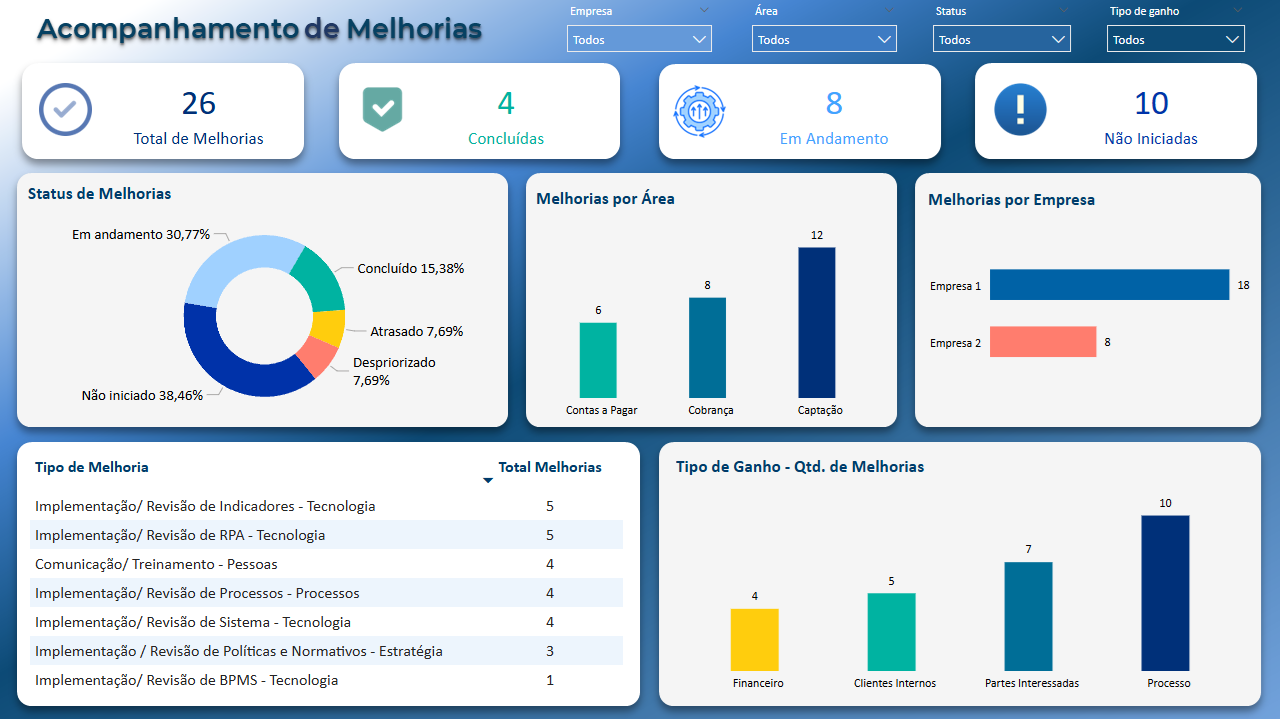

The page's visual inventory and layout, read from the dashboard file:
{"tool":"powerbi","page":{"name":"Página 1","canvas":[1280,720],"ordinal":0},"visuals":[{"type":"card","fields":{"Values":["Medidas.Total Melhorias"]},"box":[96.4,66.4,204.5,97.3],"z":0},{"type":"card","fields":{"Values":["Medidas.Melhorias Em Andamento"]},"box":[731.1,67.8,205.6,95.6],"z":1000},{"type":"donutChart","title":"Status de Melhorias","fields":{"Category":["Base.Status"],"Y":["Medidas.Total Melhorias"]},"box":[22.7,178.2,483.6,248.2],"z":2000},{"type":"slicer","fields":{"Values":["Base.Empresa"]},"box":[557.3,4.5,164.5,49.1],"z":3000},{"type":"slicer","fields":{"Values":["Base.Área"]},"box":[741.8,4.5,165.5,49.1],"z":4000},{"type":"slicer","fields":{"Values":["Base.Status"]},"box":[922.7,4.5,158.2,49.1],"z":5000},{"type":"slicer","fields":{"Values":["Base.Tipo de ganho"]},"box":[1097.3,4.5,158.2,49.1],"z":6000},{"type":"clusteredColumnChart","title":"Tipo de Ganho - Qtd. de Melhorias","fields":{"Category":["Base.Tipo de ganho"],"Y":["Medidas.Total Melhorias"]},"box":[670.9,455.9,584.9,244.5],"z":7000},{"type":"card","fields":{"Values":["Medidas.Melhorias Não Iniciadas"]},"box":[1047.8,66.7,206.7,96.7],"z":8000},{"type":"card","fields":{"Values":["Medidas.Melhorias Concluídas"]},"box":[396.4,66.4,220,97.3],"z":9000},{"type":"tableEx","fields":{"Values":["Base.Tipo de Melhoria","Medidas.Ranking do Produto"]},"box":[22.7,448.2,623.6,260],"z":10000},{"type":"clusteredBarChart","title":"Melhorias por Empresa","fields":{"Category":["Base.Empresa"],"Y":["Medidas.Total Melhorias"]},"box":[923.1,184.4,331.6,228.8],"z":11000},{"type":"clusteredColumnChart","title":"Melhorias por Área","fields":{"Category":["Base.Área"],"Y":["Medidas.Total Melhorias"]},"box":[531.1,182.7,360,239.4],"z":12000}]}

Visuals, with their boxes in screenshot pixels (x1, y1, x2, y2), scaled from the page's 1280x720 canvas onto the 1280x719 screenshot:
card - Medidas.Total Melhorias: Rect(96, 66, 301, 163)
card - Medidas.Melhorias Em Andamento: Rect(731, 68, 937, 163)
"Status de Melhorias" donutChart: Rect(23, 178, 506, 426)
slicer - Base.Empresa: Rect(557, 4, 722, 54)
slicer - Base.Área: Rect(742, 4, 907, 54)
slicer - Base.Status: Rect(923, 4, 1081, 54)
slicer - Base.Tipo de ganho: Rect(1097, 4, 1256, 54)
"Tipo de Ganho - Qtd. de Melhorias" clusteredColumnChart: Rect(671, 455, 1256, 699)
card - Medidas.Melhorias Não Iniciadas: Rect(1048, 67, 1254, 163)
card - Medidas.Melhorias Concluídas: Rect(396, 66, 616, 163)
tableEx - Base.Tipo de Melhoria x Medidas.Ranking do Produto: Rect(23, 448, 646, 707)
"Melhorias por Empresa" clusteredBarChart: Rect(923, 184, 1255, 413)
"Melhorias por Área" clusteredColumnChart: Rect(531, 182, 891, 422)
